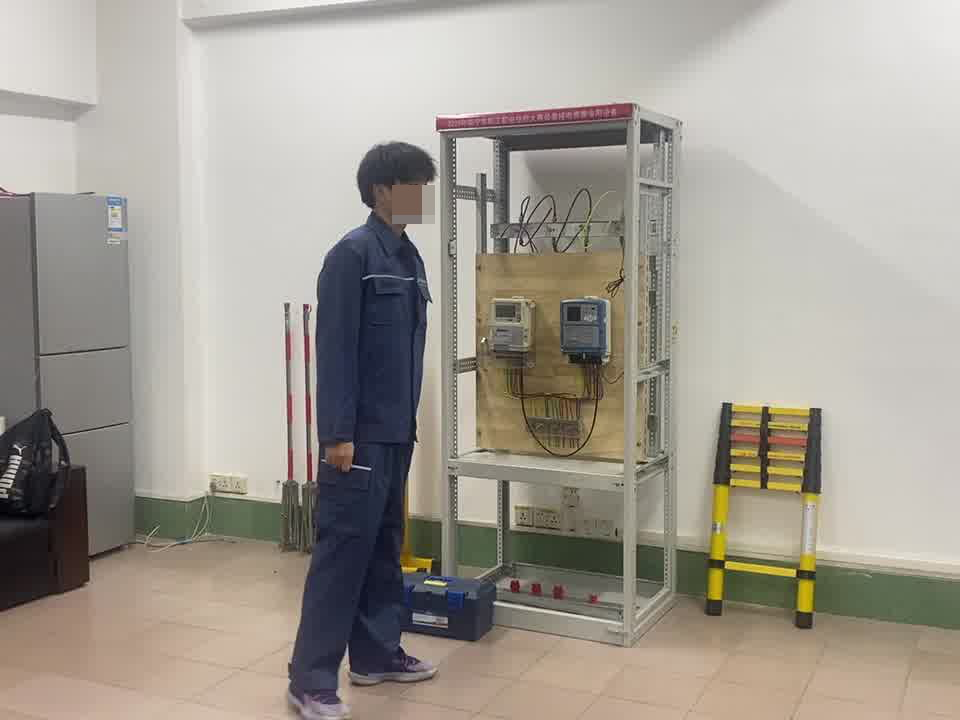downsuit: (292, 456, 415, 700)
hand: (325, 445, 355, 473)
noear: (371, 173, 418, 220)
person: (288, 140, 451, 709)
unhalt: (356, 142, 439, 228)
upsuit: (314, 230, 430, 443)
